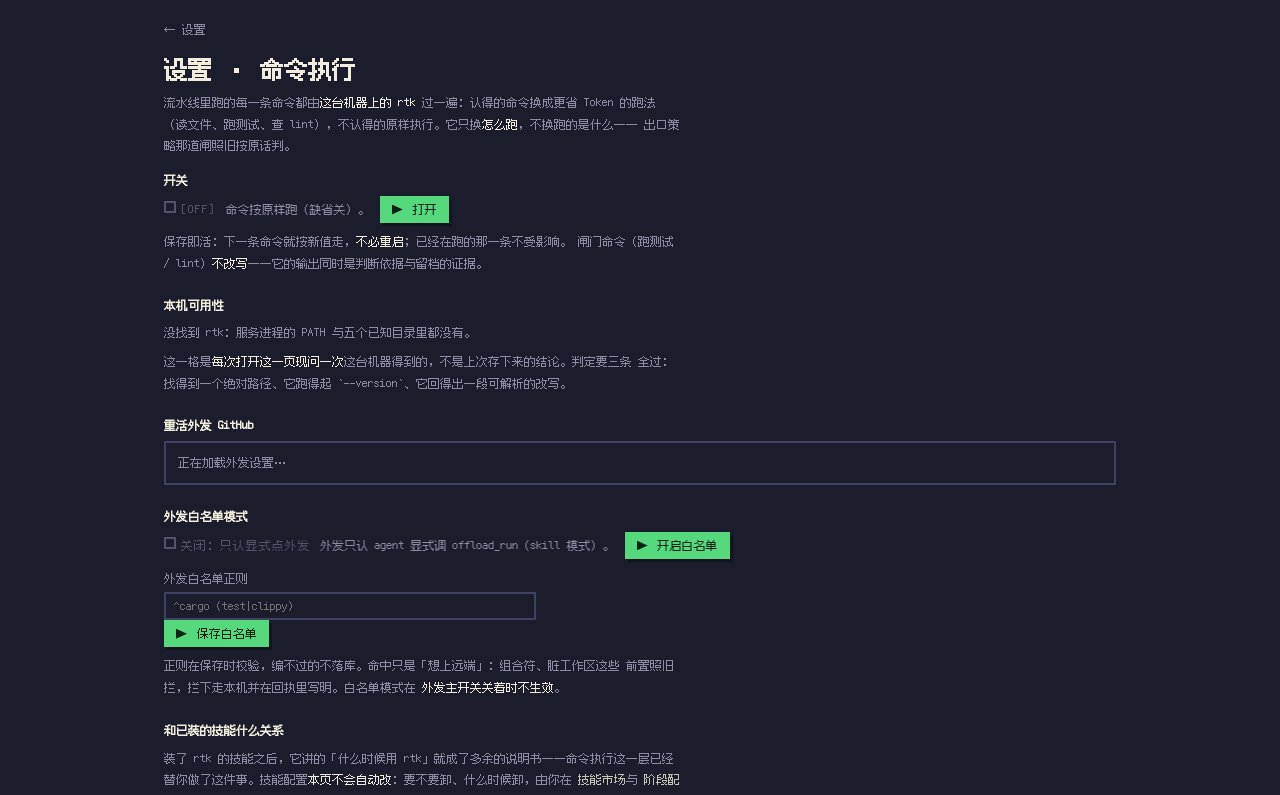
命令执行页（决策 297 / 票 05） › 白名单卡:开启保存把草稿原样交出去,成功后以重读到的读数为准
The width and height of the screenshot is (1280, 795).
Expected: the heading "设置 · 命令执行" is shown, top-left (164, 55), bottom-right (356, 84)
Type "^cargo test" into the field labelled "外发白名单正则" at point(350, 606), box top-left (164, 592), bottom-right (536, 620)
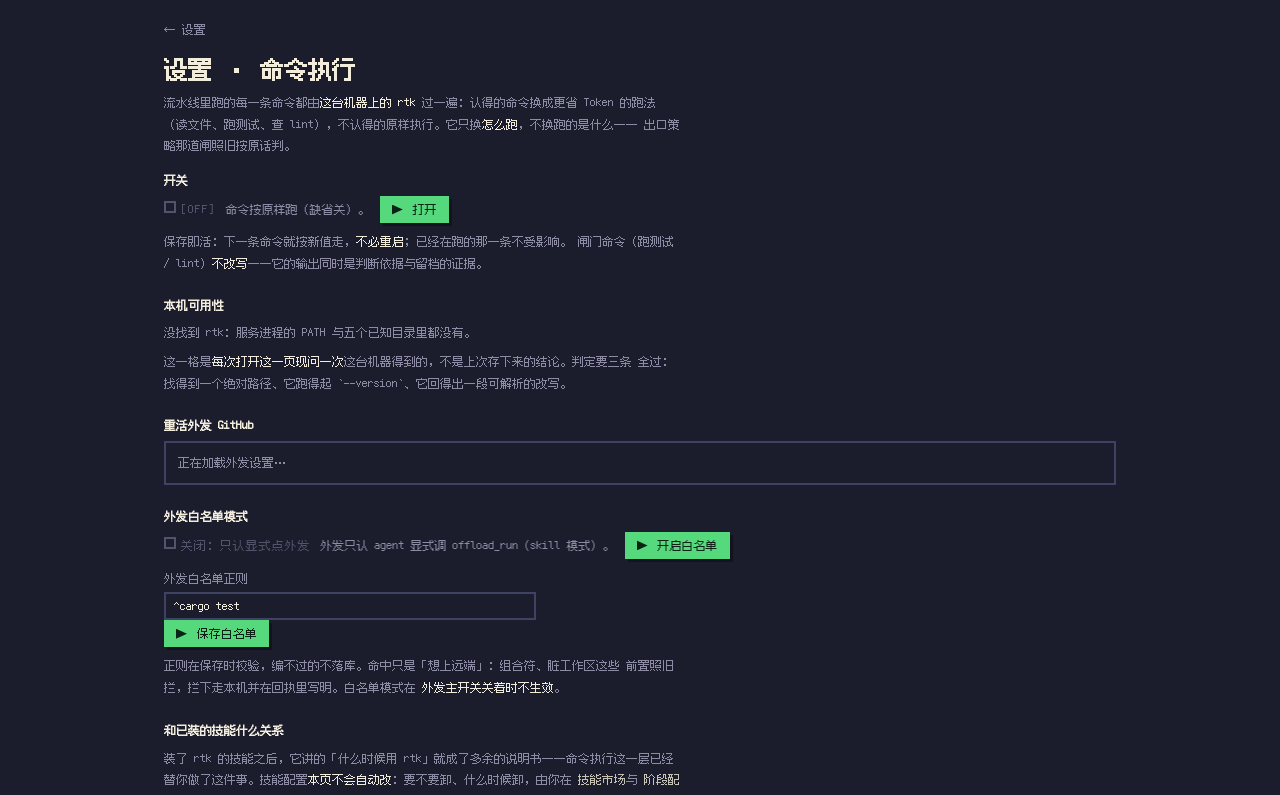
Click the button "开启白名单" at point(677, 546), box top-left (625, 532), bottom-right (730, 559)
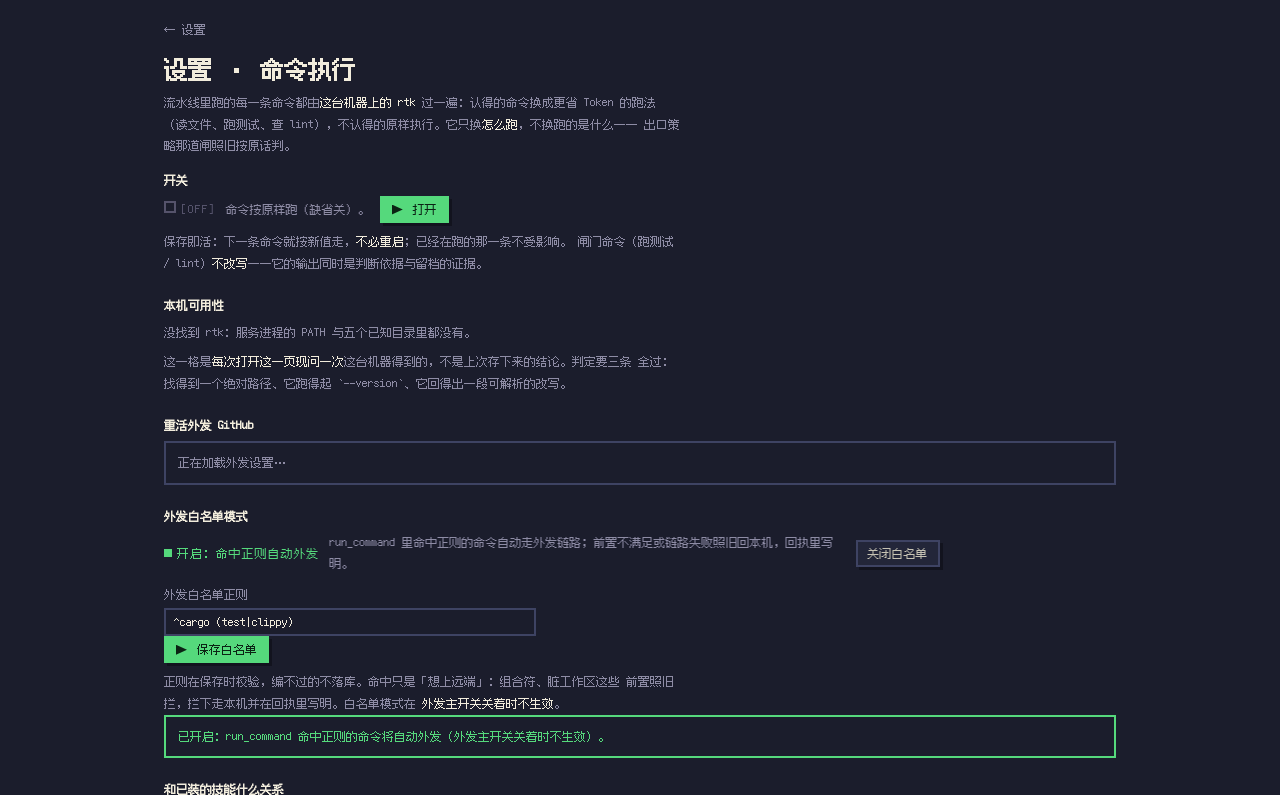
Now the message shows "已开启", box top-left (178, 730), bottom-right (610, 742)
